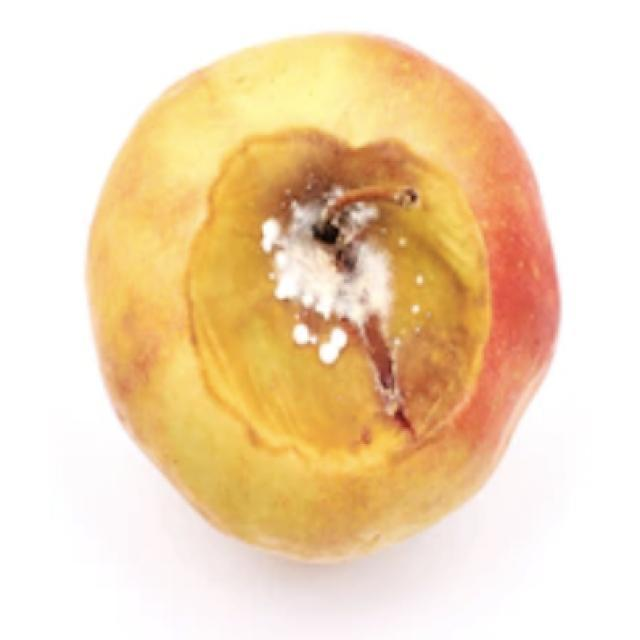Rotten: (117, 42, 563, 528)
